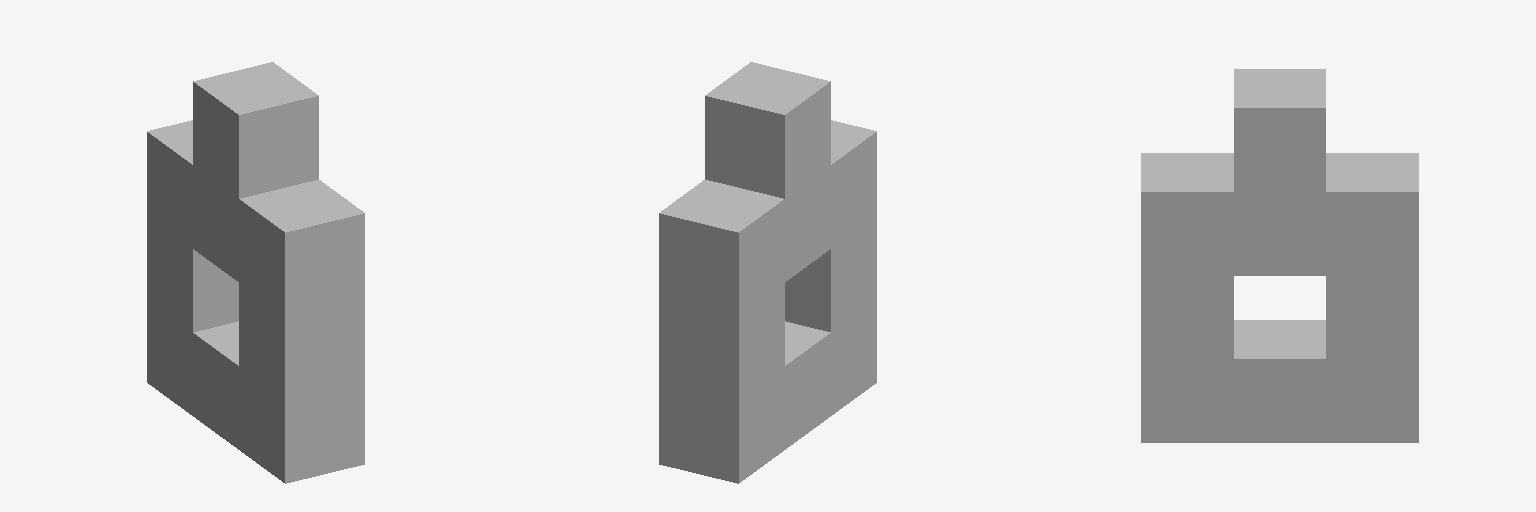
File: gyűrű.obj
3 views of the same model, side by side, from view 1: azimuth 30°, elevation 25°; view 2: azimuth 150°, elevation 25°; view 3: azimuth 270°, elevation 25° (orthographic).
Bounding box in the file's own units: 1 × 4 × 3.